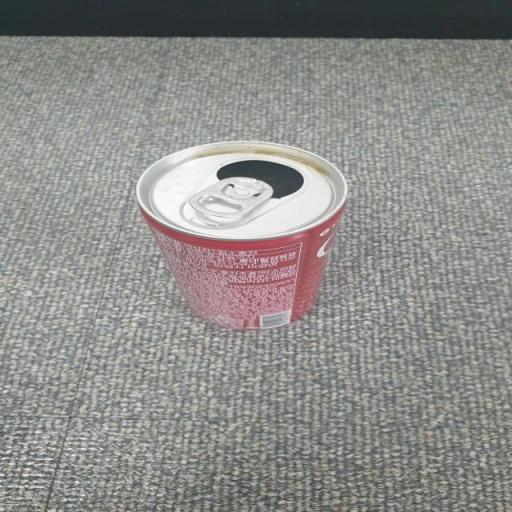metal: (100, 125, 372, 360)
